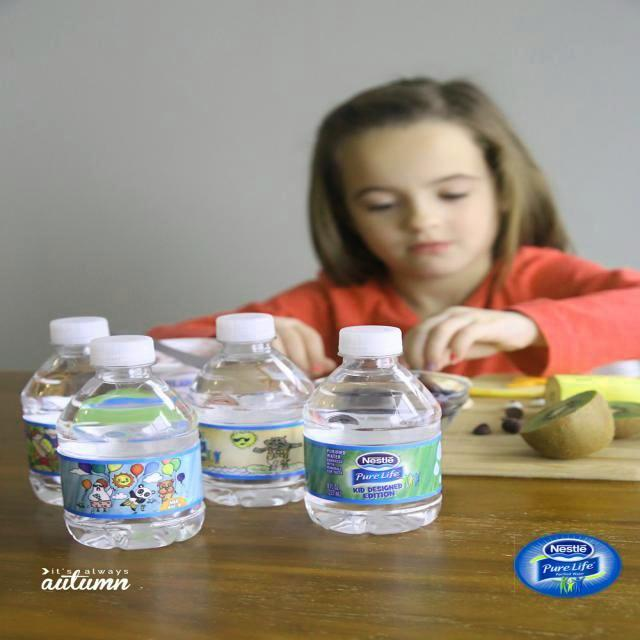bottle: (56, 336, 206, 550), (302, 326, 442, 535), (188, 314, 315, 507), (21, 316, 110, 507)
